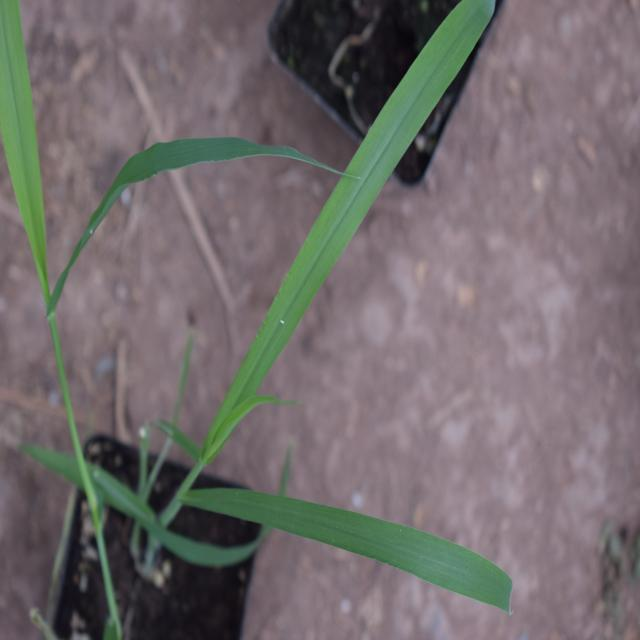crabgrass: (201, 0, 538, 616), (0, 2, 256, 312)
